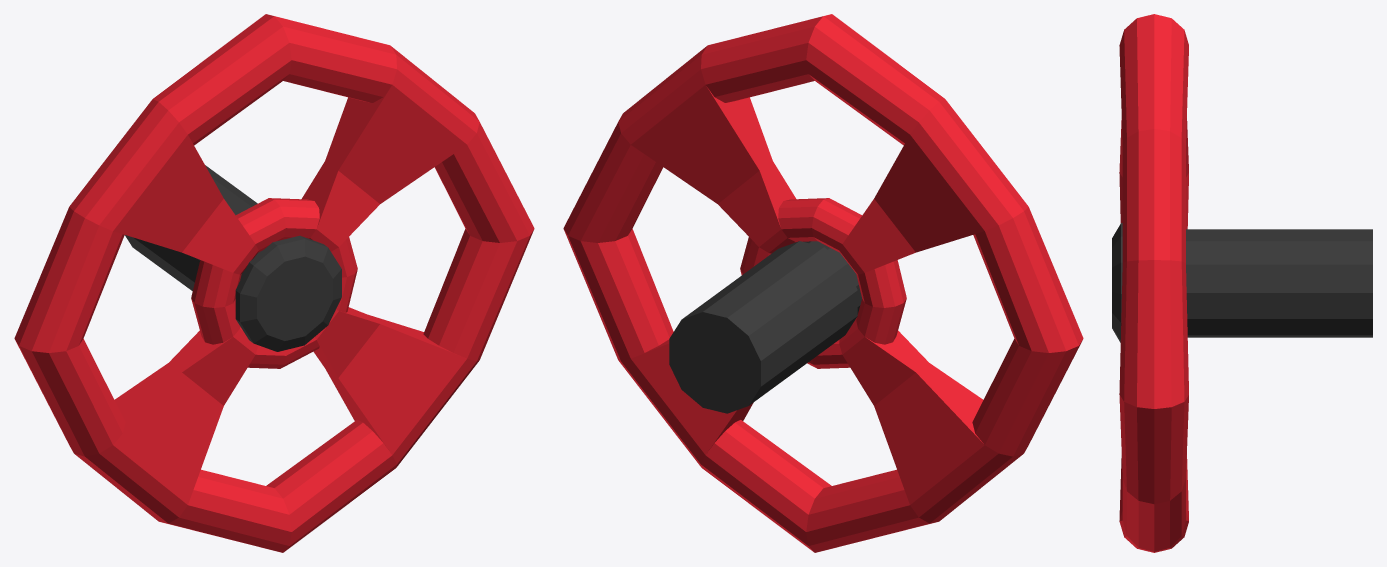
File: props.fbx_valve4.fbx
3 renders of one model, left to right at view 1: azimuth 30°, elevation 25°; view 2: azimuth 150°, elevation 25°; view 3: azimuth 270°, elevation 25°, orthographic.
Visible parts, largest first — view 1: Torus.004, Cylinder.023; view 2: Torus.004, Cylinder.023; view 3: Torus.004, Cylinder.023.
Boxes of the visible parts, x1=… form: Torus.004: x1=14, y1=14, x2=534, y2=552; Cylinder.023: x1=125, y1=165, x2=341, y2=351; Torus.004: x1=563, y1=14, x2=1083, y2=552; Cylinder.023: x1=669, y1=241, x2=861, y2=413; Torus.004: x1=1119, y1=14, x2=1188, y2=552; Cylinder.023: x1=1112, y1=223, x2=1372, y2=342.
Bounding box in the file's own units: 0.8014 × 0.8014 × 0.3514.
